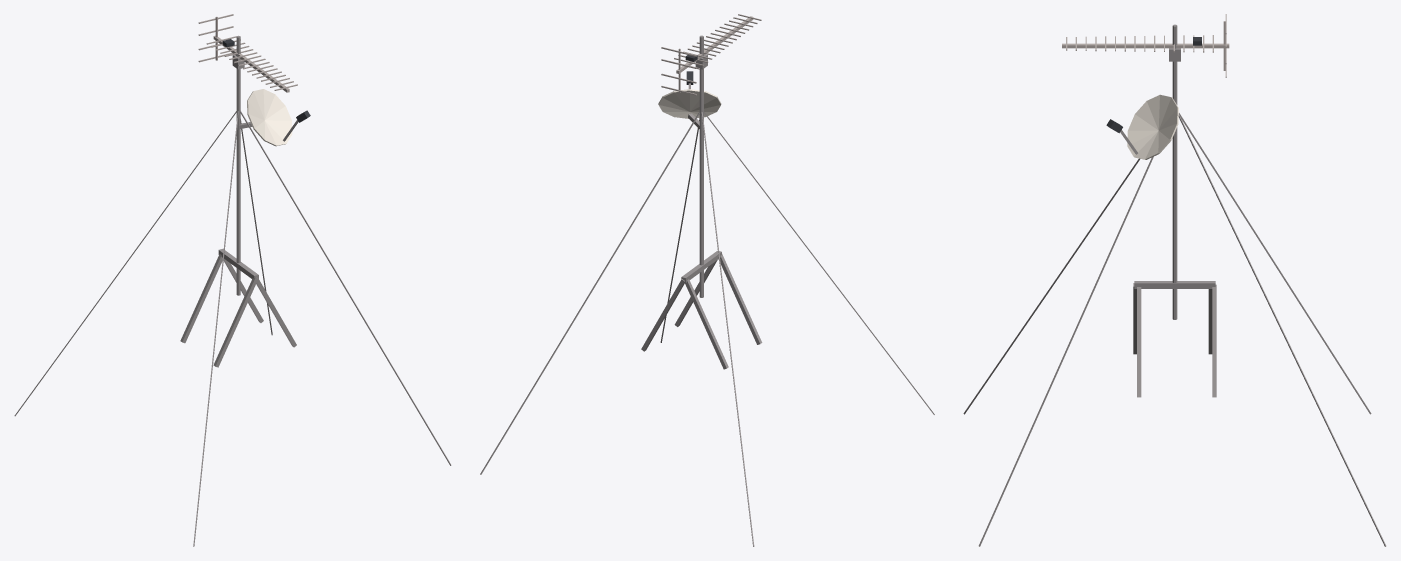
File: SM_Fixture_AntennaYagiGable_455_01.gltf
3 views of the same model, side by side, from view 1: azimuth 30°, elevation 25°; view 2: azimuth 150°, elevation 25°; view 3: azimuth 270°, elevation 25° (orthographic). The views are drawn at different scales.
Parts seen in each view (by area): view 1: SM_Fixture_AntennaYagiGable_455_01; view 2: SM_Fixture_AntennaYagiGable_455_01; view 3: SM_Fixture_AntennaYagiGable_455_01.
Part boxes in pixels (<box>): SM_Fixture_AntennaYagiGable_455_01: <box>14,14,451,546</box>; SM_Fixture_AntennaYagiGable_455_01: <box>480,14,934,546</box>; SM_Fixture_AntennaYagiGable_455_01: <box>963,14,1386,546</box>.
Size of the model in its own units: 2.31 by 3.44 by 2.81.
1 material, 1 textured.
